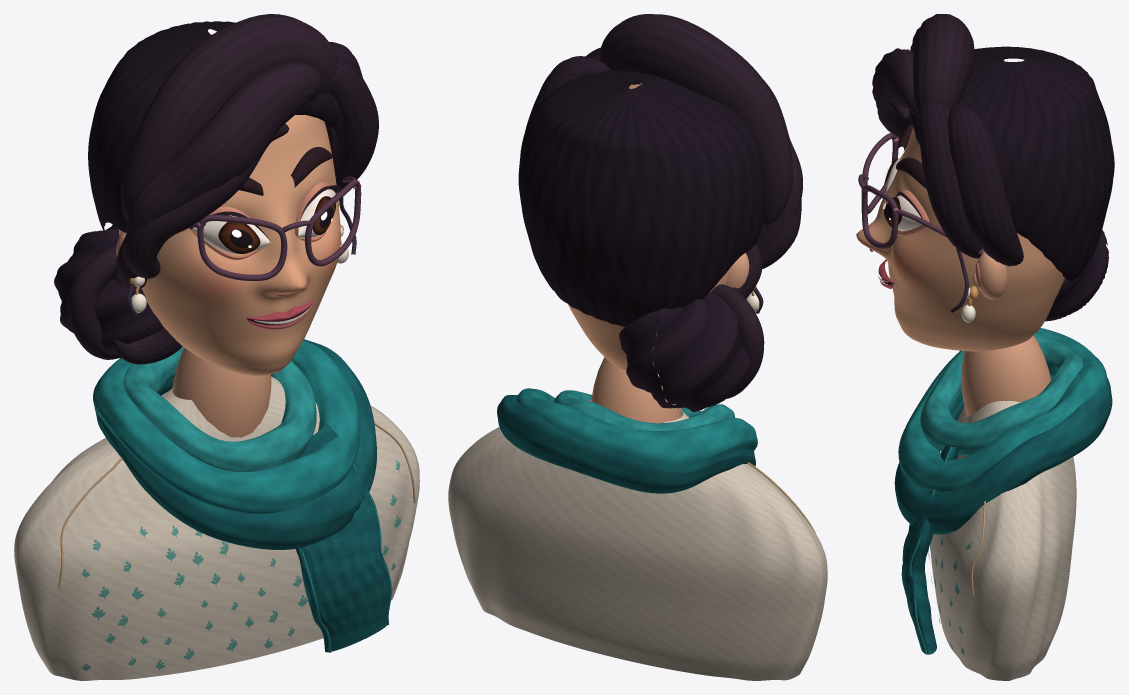
Rendered from bolo-bibi.glb.
3 views of the same model, side by side, from view 1: azimuth 30°, elevation 25°; view 2: azimuth 150°, elevation 25°; view 3: azimuth 270°, elevation 25° (orthographic). The views are drawn at different scales.
Parts seen in each view (by area): view 1: Ivory kameez, Face, Dupatta • crossed front fold, Side part • crown sweep, Side part • broad front wave, Dupatta • broad low fold, Crown and nape, Dupatta hanging panel, Dupatta • collar fold, Neck, Low twisted bun, Right temple • swept back (+8 smaller); view 2: Ivory kameez, Crown and nape, Side part • crown sweep, Low twisted bun, Dupatta • crossed front fold, Dupatta • broad low fold, Neck, Dupatta • collar fold, Bun • tucked outer loop, Face, Right temple • lower layer, Side part • broad front wave (+2 smaller); view 3: Crown and nape, Ivory kameez, Face, Dupatta • broad low fold, Dupatta • crossed front fold, Dupatta • collar fold, Right temple • lower layer, Side part • crown sweep, Neck, Right temple • swept back, Dupatta hanging panel, Side part • broad front wave (+6 smaller).
Part boxes in pixels (x1,y1,x2,y2): Ivory kameez: (14,376,419,680); Face: (118,114,340,375); Dupatta • crossed front fold: (93,340,359,513); Side part • crown sweep: (120,14,338,220); Side part • broad front wave: (126,63,321,235); Dupatta • broad low fold: (96,339,376,549); Crown and nape: (88,21,343,234); Dupatta hanging panel: (295,422,390,652); Dupatta • collar fold: (123,346,316,471); Neck: (172,348,271,437); Low twisted bun: (54,225,162,358); Right temple • swept back: (330,56,378,192); Ivory kameez: (448,400,827,680); Crown and nape: (518,69,766,326); Side part • crown sweep: (599,14,792,225); Low twisted bun: (619,292,750,412); Dupatta • crossed front fold: (516,388,757,473); Dupatta • broad low fold: (497,395,755,493); Neck: (591,357,682,423); Dupatta • collar fold: (553,390,735,430); Bun • tucked outer loop: (711,284,764,398); Face: (568,84,729,370); Right temple • lower layer: (526,56,609,127); Side part • broad front wave: (756,80,802,248); Crown and nape: (909,46,1114,281); Ivory kameez: (930,401,1076,680); Face: (856,127,1064,351); Dupatta • broad low fold: (894,377,1112,534); Dupatta • crossed front fold: (898,328,1107,492); Dupatta • collar fold: (920,333,1083,455); Right temple • lower layer: (948,103,1023,266); Side part • crown sweep: (910,14,974,116); Neck: (961,335,1050,417); Right temple • swept back: (918,103,982,258); Dupatta hanging panel: (901,445,959,654); Side part • broad front wave: (872,48,916,125).
Size of the model in its own units: 2.58 by 3.99 by 1.59.
